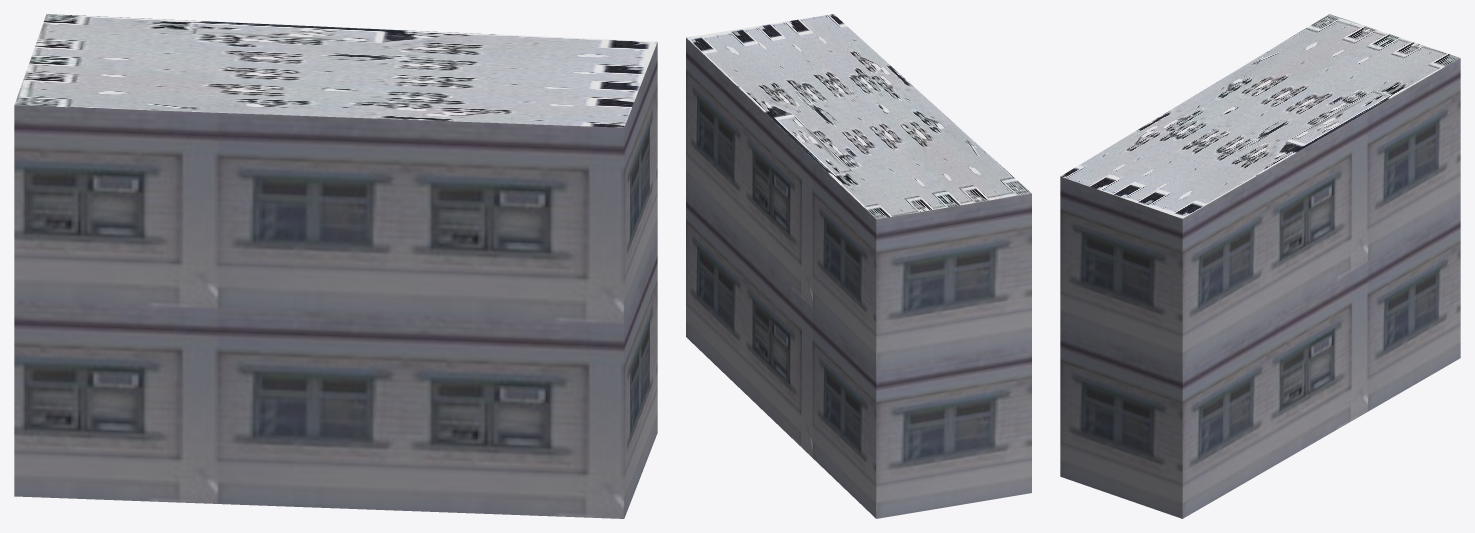
Rendered from ResTex__3944.fbx.
3 renders of one model, left to right at view 1: azimuth 30°, elevation 25°; view 2: azimuth 150°, elevation 25°; view 3: azimuth 270°, elevation 25°, orthographic. The views are drawn at different scales.
Visible parts, largest first — view 1: CityEngineMaterial_1_m, CityEngineMaterial_8_m; view 2: CityEngineMaterial_1_m, CityEngineMaterial_8_m; view 3: CityEngineMaterial_1_m, CityEngineMaterial_8_m.
Part boxes in pixels (x1=…): CityEngineMaterial_1_m: x1=14, y1=42, x2=657, y2=518; CityEngineMaterial_8_m: x1=14, y1=14, x2=657, y2=127; CityEngineMaterial_1_m: x1=686, y1=38, x2=1031, y2=518; CityEngineMaterial_8_m: x1=686, y1=14, x2=1031, y2=219; CityEngineMaterial_1_m: x1=1060, y1=58, x2=1460, y2=518; CityEngineMaterial_8_m: x1=1060, y1=14, x2=1460, y2=218.
Bounding box in the file's own units: 8.79 × 6 × 7.26.
2 materials, 2 textured.
